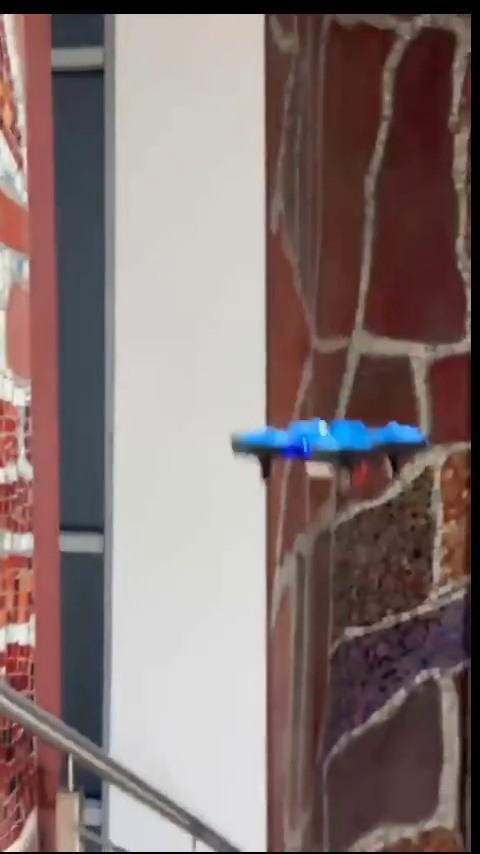drone: (228, 420, 427, 485)
